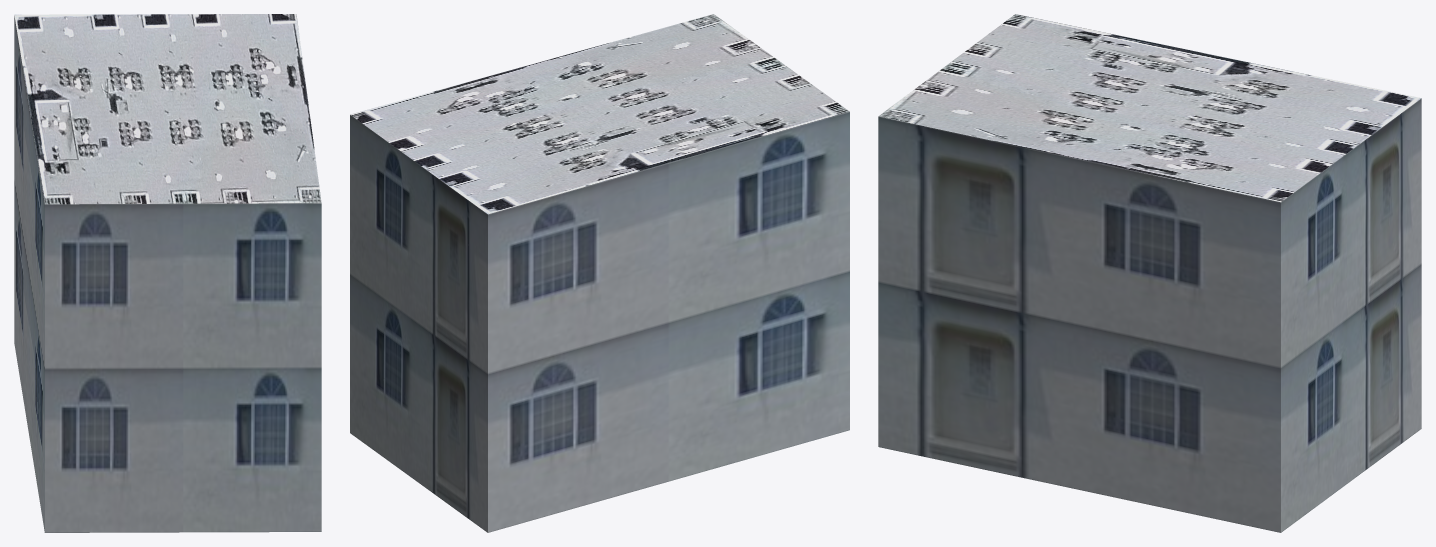
Rendered from ResTex__711.fbx.
3 views of the same model, side by side, from view 1: azimuth 30°, elevation 25°; view 2: azimuth 150°, elevation 25°; view 3: azimuth 270°, elevation 25° (orthographic). The views are drawn at different scales.
Visible parts, largest first — view 1: CityEngineMaterial_17_m, CityEngineMaterial_4_m; view 2: CityEngineMaterial_17_m, CityEngineMaterial_4_m; view 3: CityEngineMaterial_17_m, CityEngineMaterial_4_m.
Boxes of the visible parts, box(x1,y1,x2,y2) form: CityEngineMaterial_17_m: box(14, 16, 321, 532); CityEngineMaterial_4_m: box(14, 14, 321, 204); CityEngineMaterial_17_m: box(350, 111, 849, 532); CityEngineMaterial_4_m: box(350, 14, 849, 214); CityEngineMaterial_17_m: box(878, 98, 1421, 532); CityEngineMaterial_4_m: box(878, 14, 1421, 202).
Size of the model in its own units: 7.33 by 6 by 8.94.
2 materials, 2 textured.
